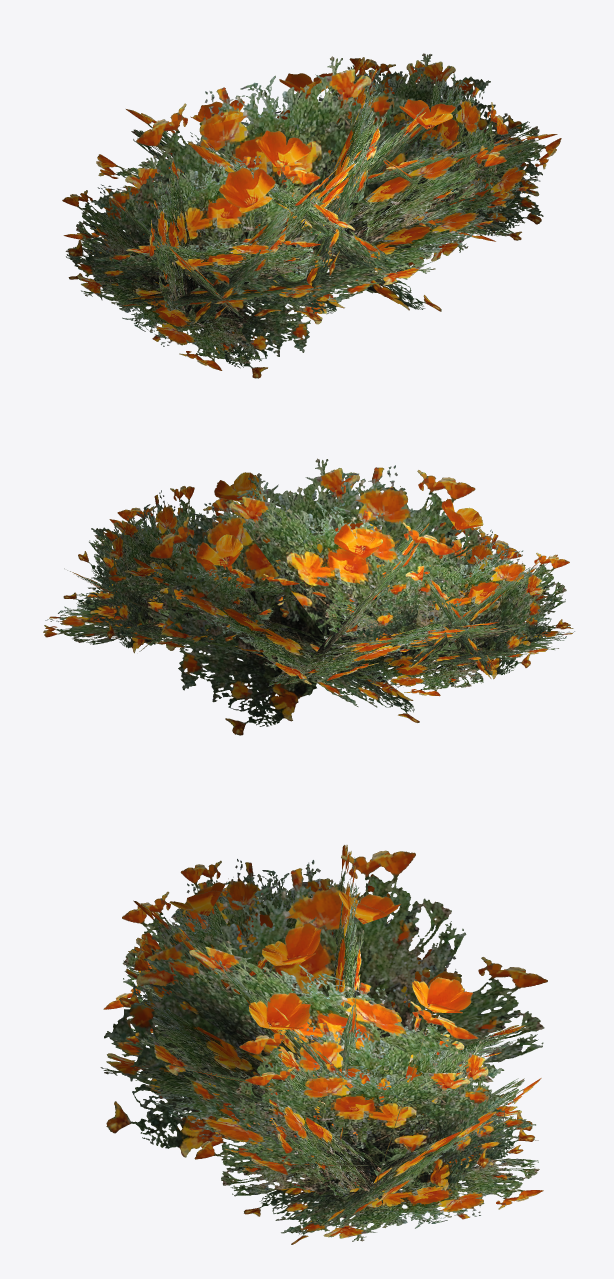
Rendered from flow_poppies_lg_l0.fbx.
The picture shows the model from 3 angles, top to bottom: view 1: azimuth 30°, elevation 25°; view 2: azimuth 150°, elevation 25°; view 3: azimuth 270°, elevation 25°; orthographic projection. The views are drawn at different scales.
Visible parts, largest first — view 1: mesh_node; view 2: mesh_node; view 3: mesh_node.
Part boxes in pixels (box(x1,y1,x2,y2)): mesh_node: box(62, 53, 561, 378); mesh_node: box(43, 458, 574, 735); mesh_node: box(100, 845, 547, 1244).
Size of the model in its own units: 1.93 by 0.8096 by 1.5.
